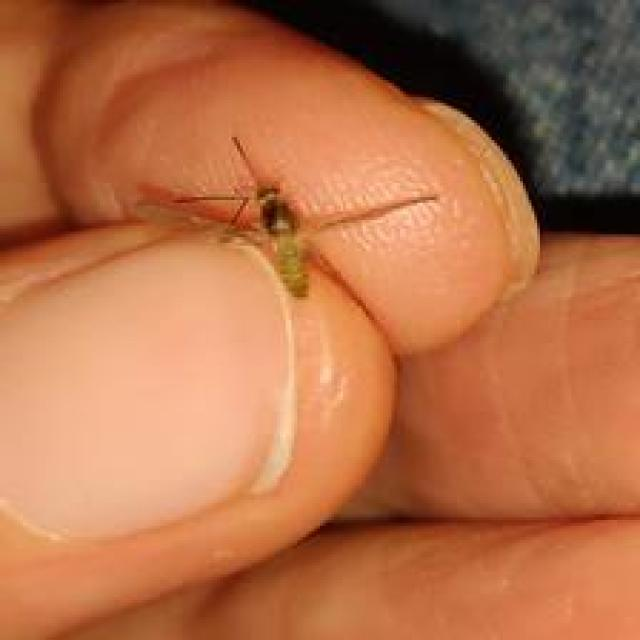Culex: (133, 134, 438, 300)
